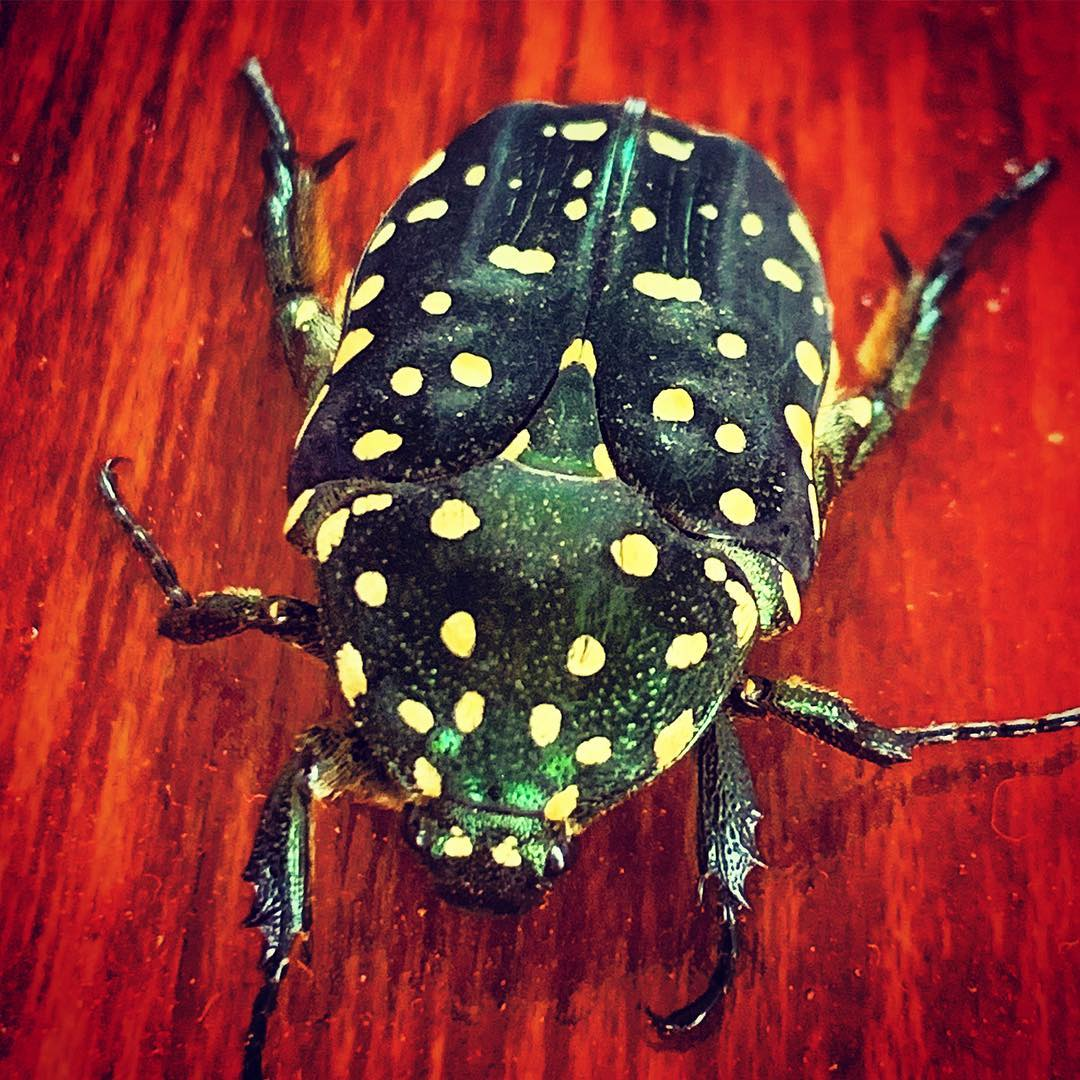Protaetia_niveoguttata: (95, 24, 1065, 1048)
